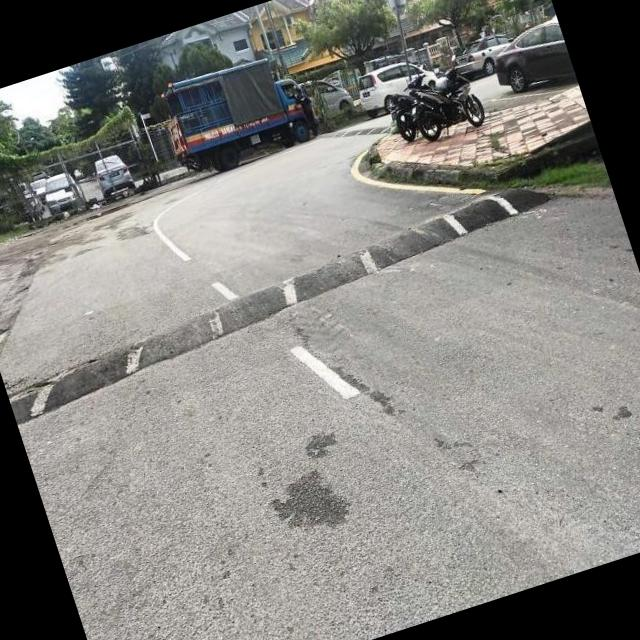bump: (3, 183, 524, 441)
